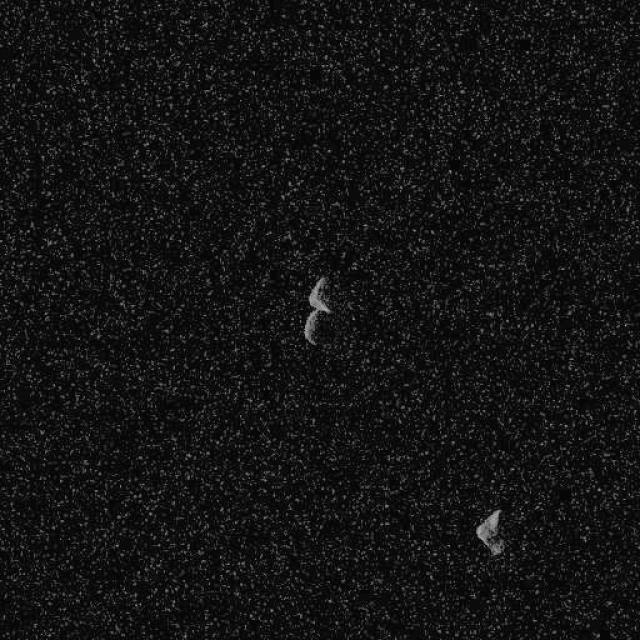D2: (302, 274, 332, 346), (474, 508, 505, 556)
